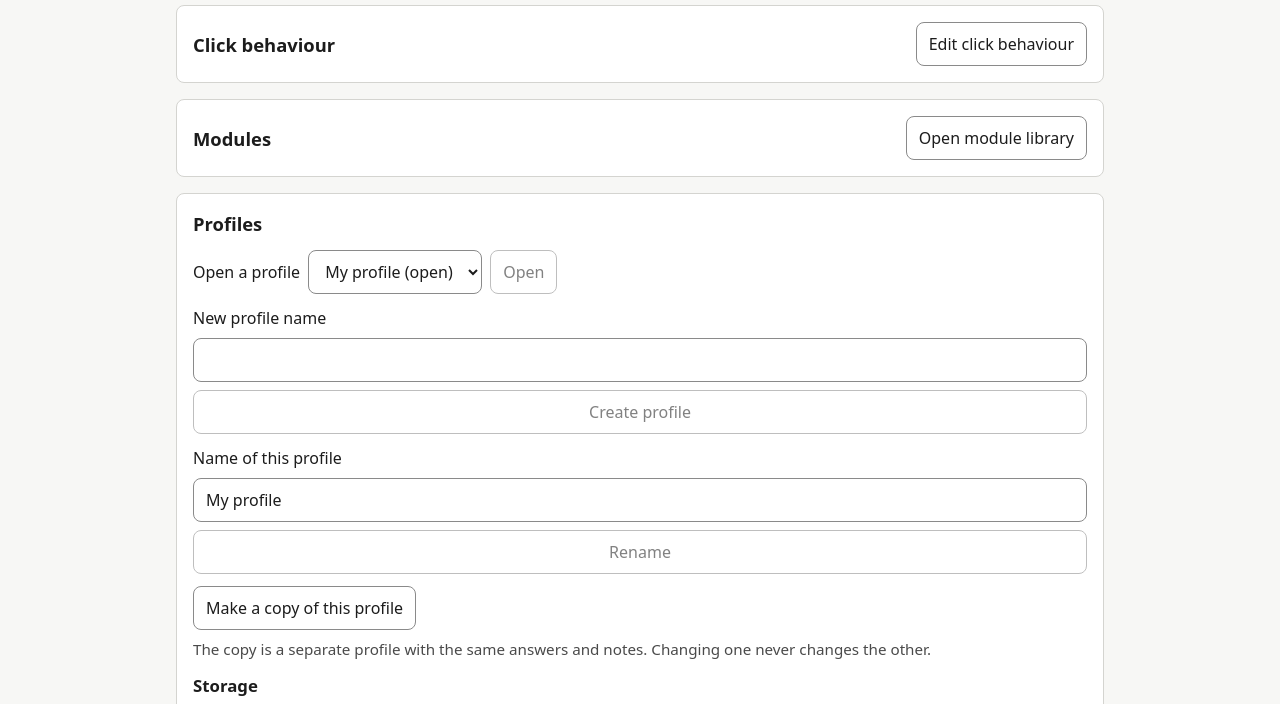
Scenario: profiles: switch, create, delete › creates a named profile and opens it
(page scrolled)
Type "Work chart" into the field labelled "New profile name" at (640, 360), box [193, 338, 1087, 382]
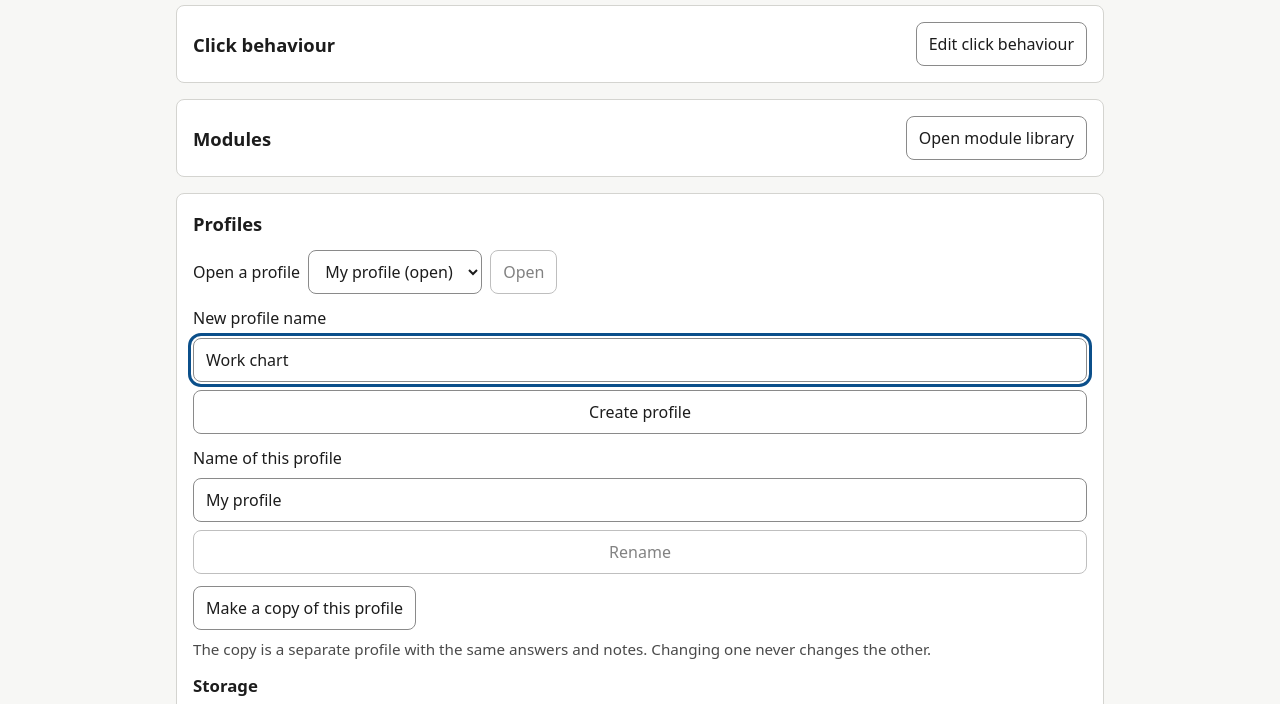
Click the button "Create profile" at (640, 412), box [193, 390, 1087, 434]
(page scrolled)
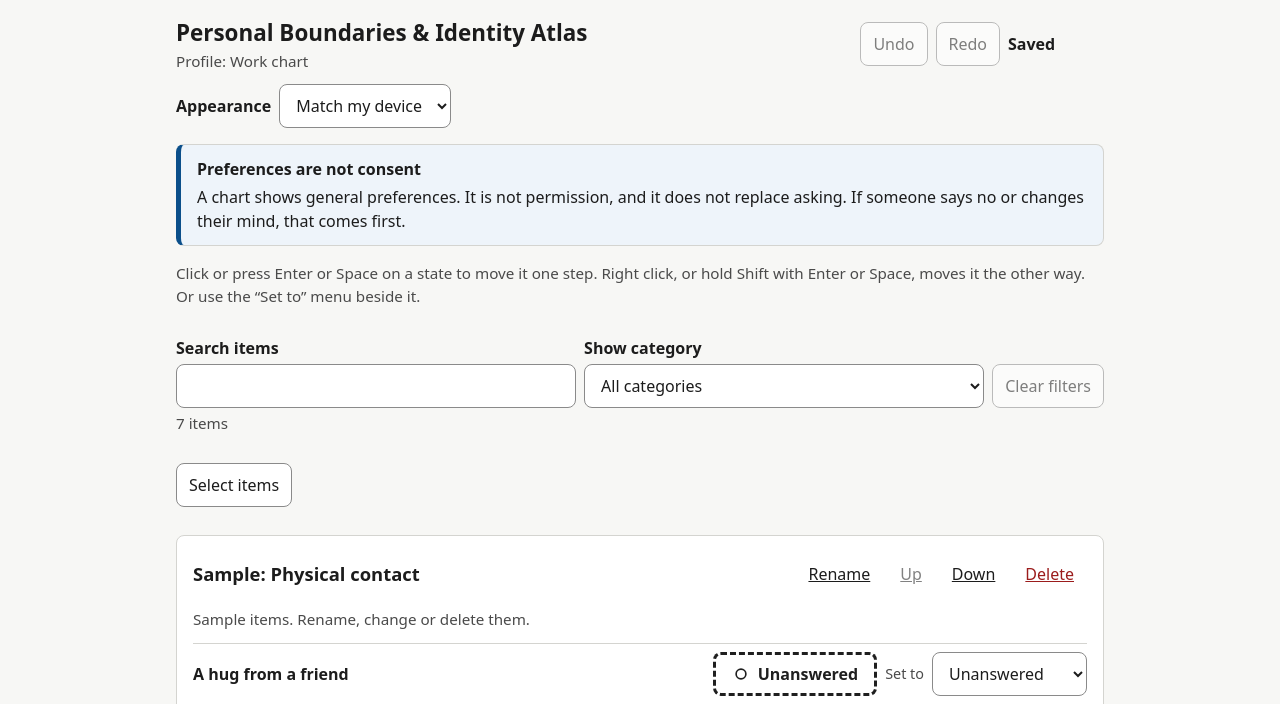
Now the text "Profile: Work chart" is shown, box [176, 51, 308, 71]
